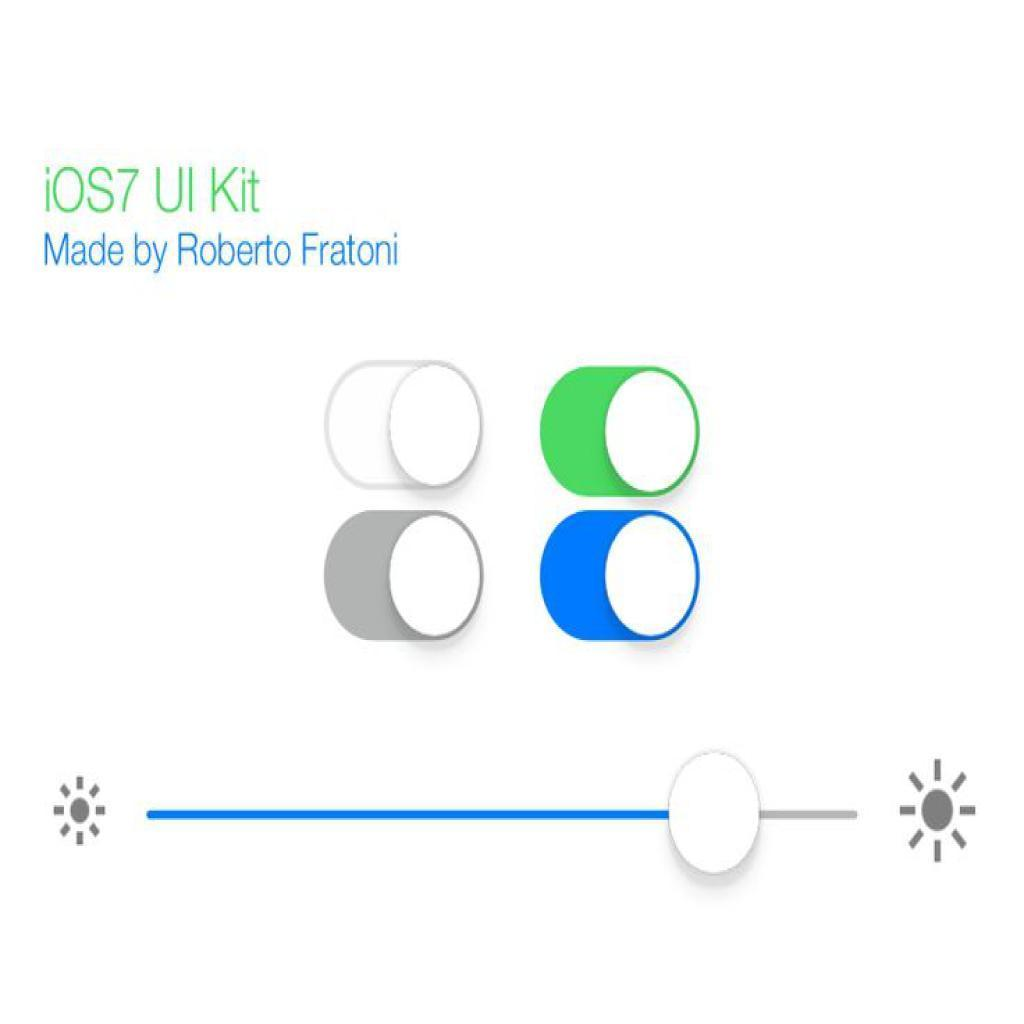slider: (44, 751, 988, 895)
switch: (323, 509, 490, 647), (542, 364, 701, 498), (545, 511, 701, 646), (325, 362, 482, 486)
